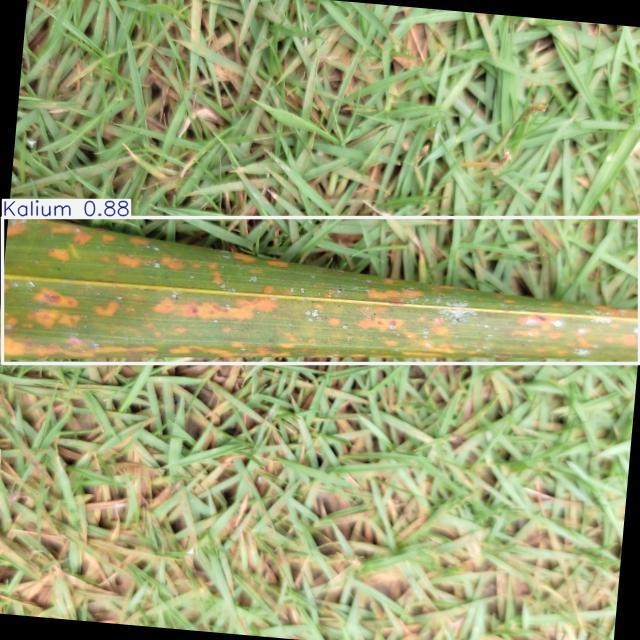Kalium: (3, 218, 639, 363)
